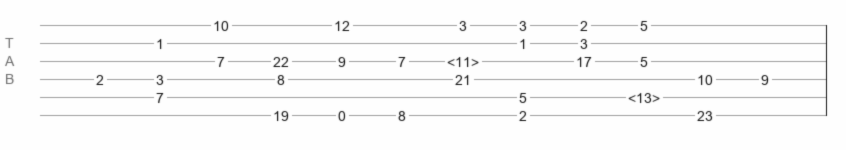0: (338, 108, 346, 118)
1: (156, 36, 164, 46), (519, 36, 527, 46)
10: (213, 18, 229, 28), (697, 72, 713, 82)
12: (334, 18, 350, 28)
17: (576, 54, 592, 64)
19: (273, 108, 289, 118)
2: (96, 72, 104, 82), (519, 108, 527, 118), (580, 18, 588, 28)
21: (455, 72, 471, 82)
22: (273, 54, 289, 64)
23: (697, 108, 713, 118)
3: (156, 72, 164, 82), (459, 18, 467, 28), (519, 18, 527, 28), (580, 36, 588, 46)
5: (519, 90, 527, 100), (640, 18, 648, 28), (640, 54, 648, 64)
7: (156, 90, 164, 100), (217, 54, 225, 64), (398, 54, 406, 64)
8: (277, 72, 285, 82), (398, 108, 406, 118)
9: (338, 54, 346, 64), (761, 72, 769, 82)
harmonic: (447, 54, 479, 64), (628, 90, 660, 100)
